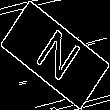N_SW: (27, 23, 83, 87)
